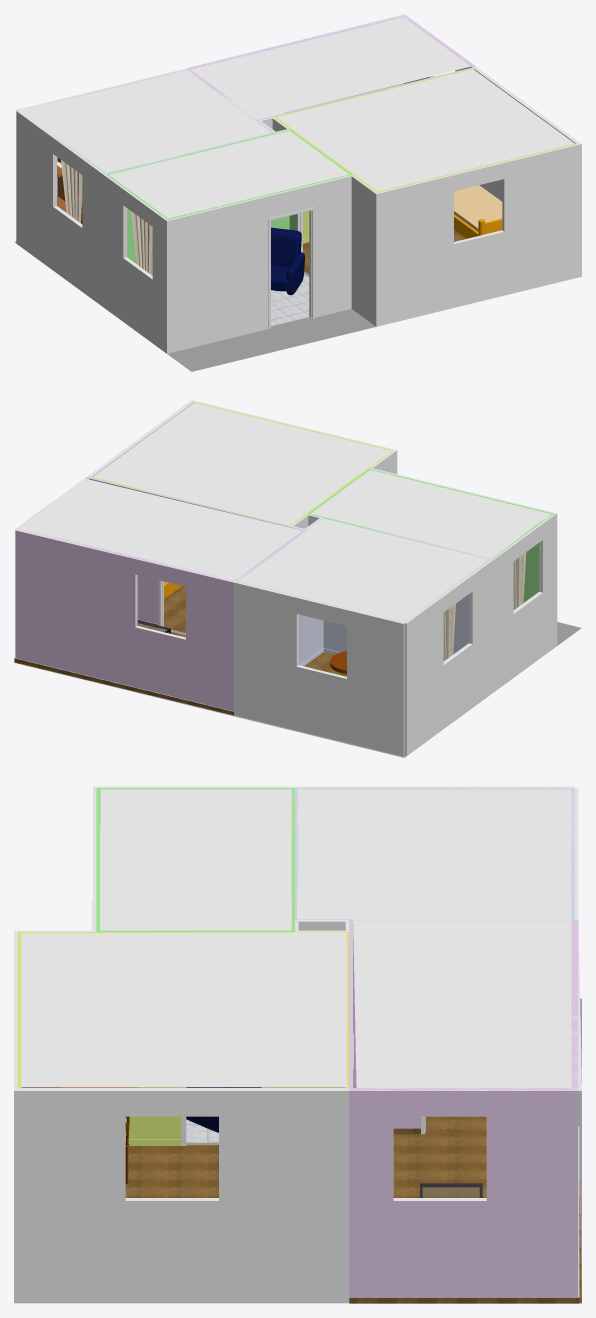
Rendered from casa.obj.
3 renders of one model, top to bottom at view 1: azimuth 30°, elevation 25°; view 2: azimuth 150°, elevation 25°; view 3: azimuth 270°, elevation 25°, orthographic. The views are drawn at different scales.
Parts seen in each view (by area): view 1: wall_1_5, room_21_134, wall_3_18, room_20_132, room_19_130, room_22_136, wall_8_53, wall_7_46, ground_1, wall_2_12, Matelas_157, 192 (+5 smaller); view 2: wall_6_40, wall_5_32, room_21_134, room_20_132, room_19_130, room_22_136, wall_8_53, wall_7_46, wall_4_26, wall_18_125, wall_6_38, ground_1 (+5 smaller); view 3: wall_14_95, room_21_134, wall_13_88, room_20_132, room_19_130, room_22_136, room_20_131, room_21_133, wall_13_86, wall_12_80, room_19_129, sweethome3d_window_pane_175 (+6 smaller).
Boxes of the visible parts, x1=… form: wall_1_5: x1=376, y1=144, x2=581, y2=326; room_21_134: x1=277, y1=69, x2=574, y2=191; wall_3_18: x1=167, y1=176, x2=351, y2=353; room_20_132: x1=189, y1=14, x2=470, y2=119; room_19_130: x1=18, y1=69, x2=271, y2=172; room_22_136: x1=109, y1=130, x2=348, y2=218; wall_8_53: x1=16, y1=111, x2=103, y2=307; wall_7_46: x1=103, y1=175, x2=166, y2=353; ground_1: x1=14, y1=241, x2=375, y2=371; wall_2_12: x1=351, y1=176, x2=376, y2=326; Matelas_157: x1=454, y1=185, x2=502, y2=231; 192: x1=271, y1=227, x2=301, y2=291; wall_6_40: x1=15, y1=530, x2=233, y2=711; wall_5_32: x1=234, y1=582, x2=404, y2=756; room_21_134: x1=93, y1=403, x2=391, y2=525; room_20_132: x1=14, y1=478, x2=302, y2=582; room_19_130: x1=237, y1=518, x2=488, y2=623; room_22_136: x1=311, y1=470, x2=551, y2=558; wall_8_53: x1=404, y1=560, x2=493, y2=756; wall_7_46: x1=494, y1=513, x2=557, y2=691; wall_4_26: x1=323, y1=594, x2=468, y2=654; wall_18_125: x1=89, y1=478, x2=288, y2=624; wall_6_38: x1=14, y1=658, x2=233, y2=715; ground_1: x1=32, y1=622, x2=581, y2=757; wall_14_95: x1=14, y1=1091, x2=349, y2=1303; room_21_134: x1=21, y1=932, x2=347, y2=1087; wall_13_88: x1=349, y1=1091, x2=578, y2=1297; room_20_132: x1=353, y1=919, x2=581, y2=1090; room_19_130: x1=297, y1=788, x2=576, y2=919; room_22_136: x1=100, y1=789, x2=294, y2=930; room_20_131: x1=393, y1=1131, x2=581, y2=1303; room_21_133: x1=125, y1=1145, x2=218, y2=1197; wall_13_86: x1=349, y1=1297, x2=579, y2=1303; wall_12_80: x1=125, y1=1087, x2=294, y2=1139; room_19_129: x1=426, y1=1116, x2=486, y2=1131; sweethome3d_window_pane_175: x1=420, y1=1183, x2=482, y2=1197.
Bounding box in the file's own units: 771 × 250 × 607.
